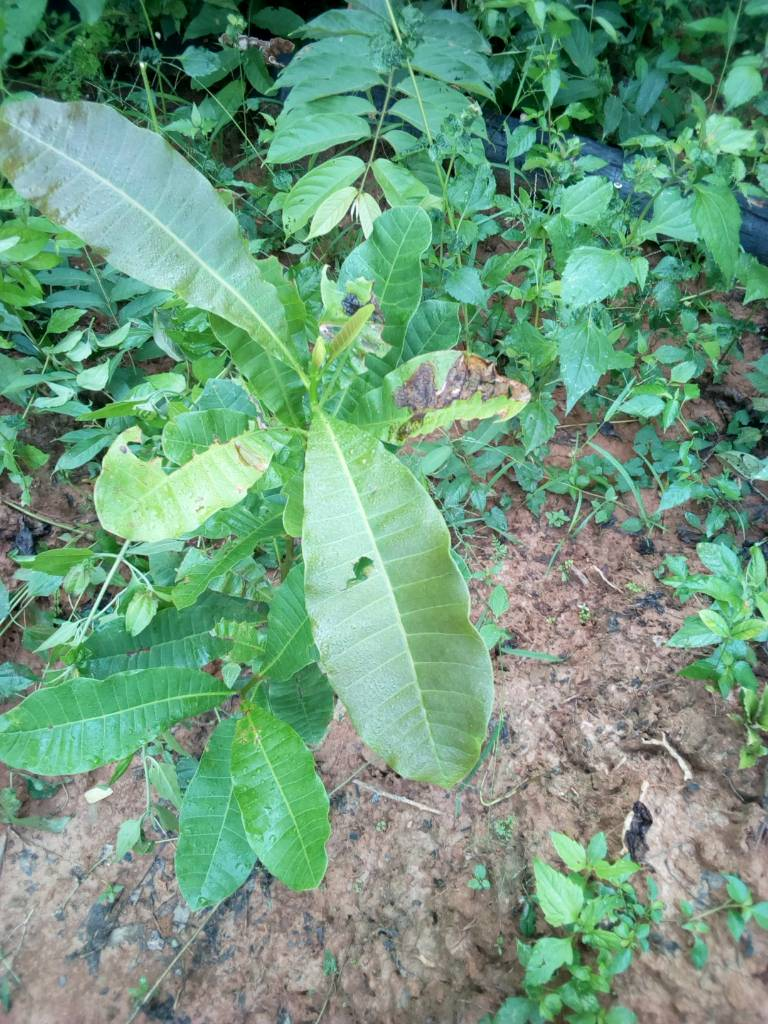Bactériose: (93, 405, 297, 542), (358, 349, 532, 447)
